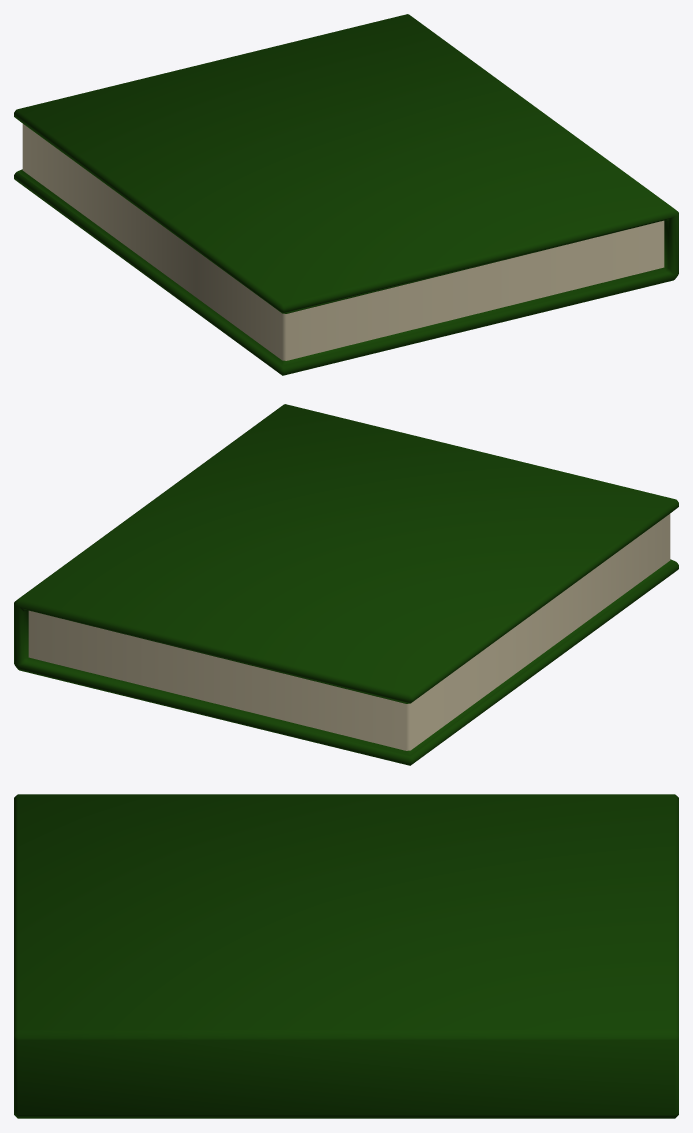
Rendered from Hopefully green.fbx.
The picture shows the model from 3 angles, top to bottom: view 1: azimuth 30°, elevation 25°; view 2: azimuth 150°, elevation 25°; view 3: azimuth 270°, elevation 25°; orthographic projection. The views are drawn at different scales.
Visible parts, largest first — view 1: Cube; view 2: Cube; view 3: Cube.
Part boxes in pixels (box(x1,y1,x2,y2)): Cube: box(14, 14, 678, 375); Cube: box(14, 404, 678, 765); Cube: box(14, 794, 678, 1118).
Bounding box in the file's own units: 0.2141 × 0.0368 × 0.25.
